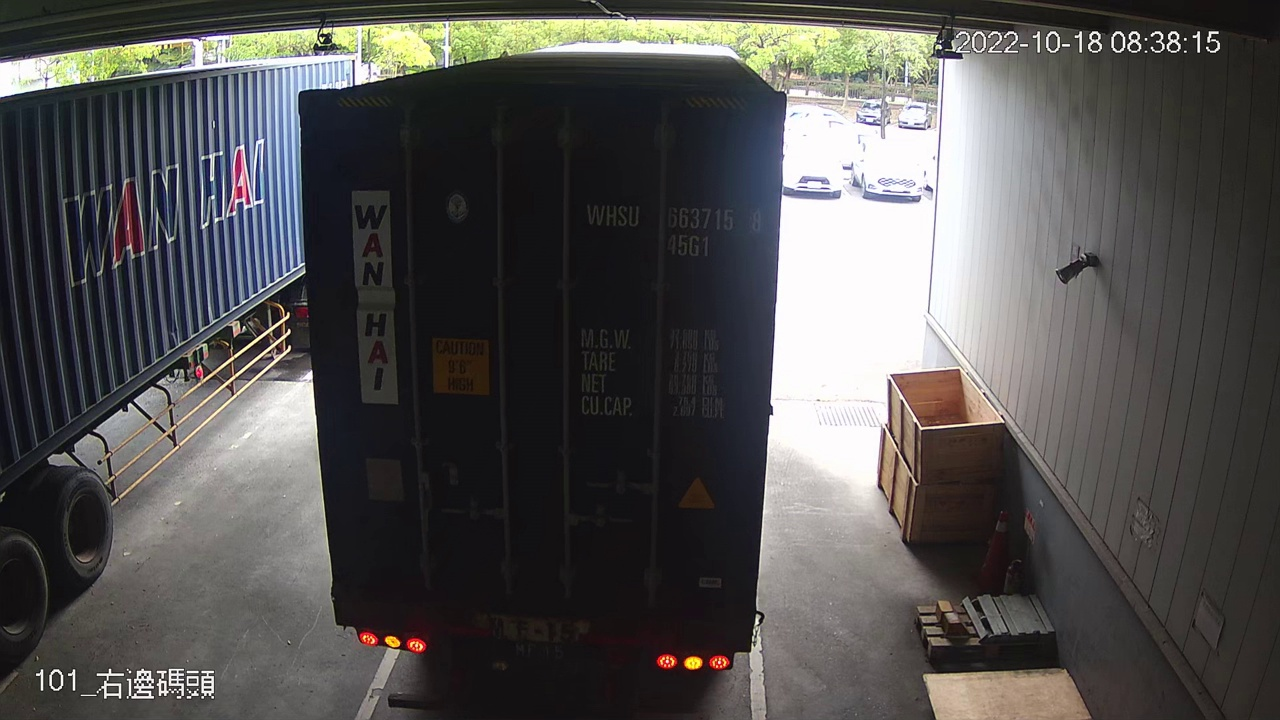container: (580, 193, 770, 263)
